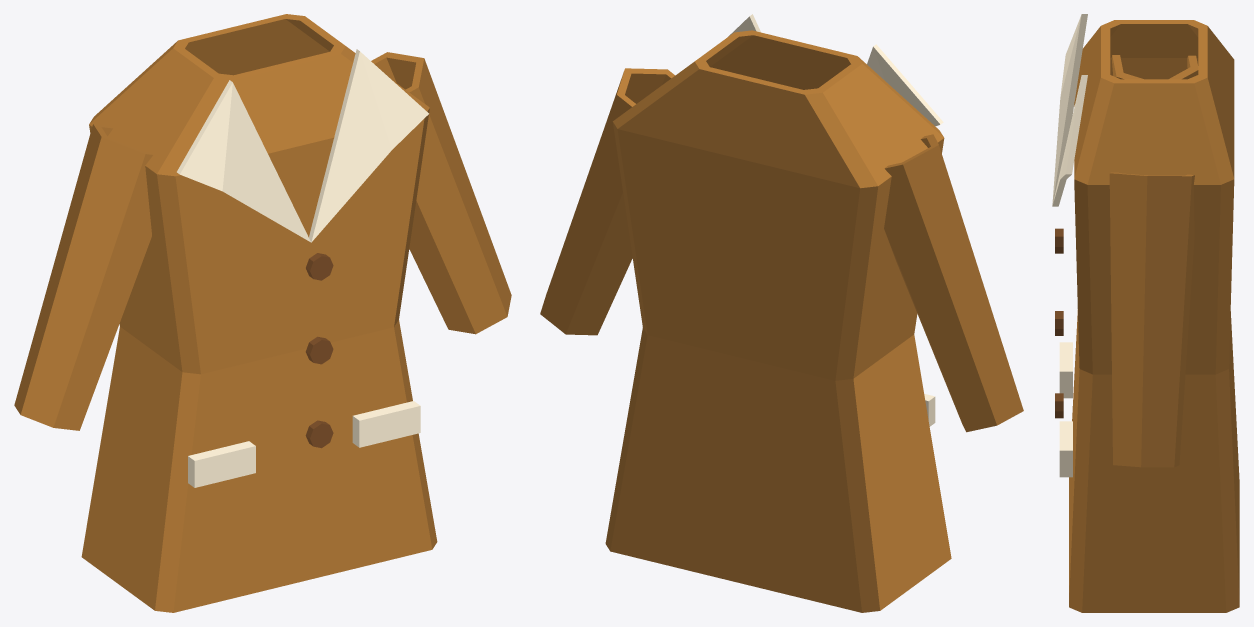
The model's file is 20-coat.glb.
3 views of the same model, side by side, from view 1: azimuth 30°, elevation 25°; view 2: azimuth 150°, elevation 25°; view 3: azimuth 270°, elevation 25° (orthographic). The views are drawn at different scales.
Parts seen in each view (by area): view 1: 20-coat__HollowCoatBody, 20-coat__HollowSleeve_0, 20-coat__HollowSleeve_1, 20-coat__Lapel_1, 20-coat__Lapel_0, 20-coat__PocketFlap_1, 20-coat__PocketFlap_0; view 2: 20-coat__HollowCoatBody, 20-coat__HollowSleeve_0, 20-coat__HollowSleeve_1, 20-coat__Lapel_0; view 3: 20-coat__HollowCoatBody, 20-coat__HollowSleeve_1, 20-coat__Lapel_0, 20-coat__Lapel_1, 20-coat__PocketFlap_1, 20-coat__PocketFlap_0, 20-coat__HollowSleeve_0.
Boxes of the visible parts, box(x1,y1,x2,y2) form: 20-coat__HollowCoatBody: box(81, 14, 437, 612); 20-coat__HollowSleeve_0: box(14, 124, 152, 430); 20-coat__HollowSleeve_1: box(371, 52, 511, 334); 20-coat__Lapel_1: box(309, 49, 428, 242); 20-coat__Lapel_0: box(177, 80, 310, 242); 20-coat__PocketFlap_1: box(352, 401, 420, 447); 20-coat__PocketFlap_0: box(188, 441, 255, 487); 20-coat__HollowCoatBody: box(605, 30, 951, 612); 20-coat__HollowSleeve_0: box(884, 134, 1023, 432); 20-coat__HollowSleeve_1: box(540, 68, 674, 335); 20-coat__Lapel_0: box(867, 44, 943, 126); 20-coat__HollowCoatBody: box(1069, 20, 1239, 612); 20-coat__HollowSleeve_1: box(1109, 172, 1194, 467); 20-coat__Lapel_0: box(1052, 14, 1087, 205); 20-coat__Lapel_1: box(1052, 75, 1087, 206); 20-coat__PocketFlap_1: box(1059, 421, 1072, 477); 20-coat__PocketFlap_0: box(1059, 342, 1072, 398); 20-coat__HollowSleeve_0: box(1111, 55, 1198, 79).
Bounding box in the file's own units: 1.04 × 1.03 × 0.351.
